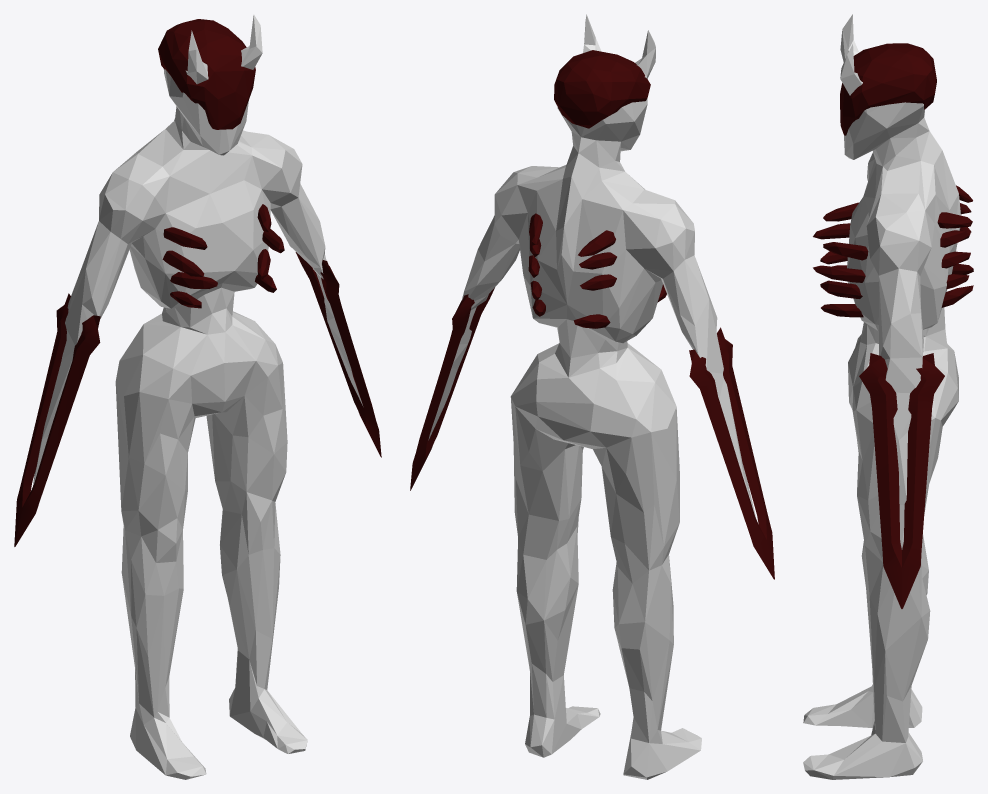
The model's file is Ennemy.fbx.
The picture shows the model from 3 angles, left to right: view 1: azimuth 30°, elevation 25°; view 2: azimuth 150°, elevation 25°; view 3: azimuth 270°, elevation 25°; orthographic projection.
Visible parts, largest first — view 1: Corps, Sword, Casques, Rib_Cage, Ventre, Cornes; view 2: Corps, Sword, Casques, Rib_Cage, Ventre, Cornes; view 3: Corps, Sword, Rib_Cage, Casques, Cornes, Ventre.
Part boxes in pixels (x1,y1,x2,y2): Corps: [33, 69, 363, 779]; Sword: [14, 252, 381, 546]; Casques: [158, 19, 255, 129]; Rib_Cage: [162, 204, 284, 308]; Ventre: [162, 287, 234, 334]; Cornes: [187, 14, 262, 84]; Corps: [428, 65, 756, 779]; Sword: [410, 287, 774, 579]; Casques: [554, 50, 650, 128]; Rib_Cage: [528, 213, 666, 328]; Ventre: [555, 319, 627, 377]; Cornes: [583, 14, 655, 78]; Corps: [803, 52, 960, 779]; Sword: [859, 353, 944, 608]; Rib_Cage: [813, 185, 973, 317]; Casques: [840, 43, 936, 135]; Cornes: [840, 14, 860, 95]; Ventre: [860, 307, 947, 351].
Bounding box in the file's own units: 107 × 204 × 43.88.
